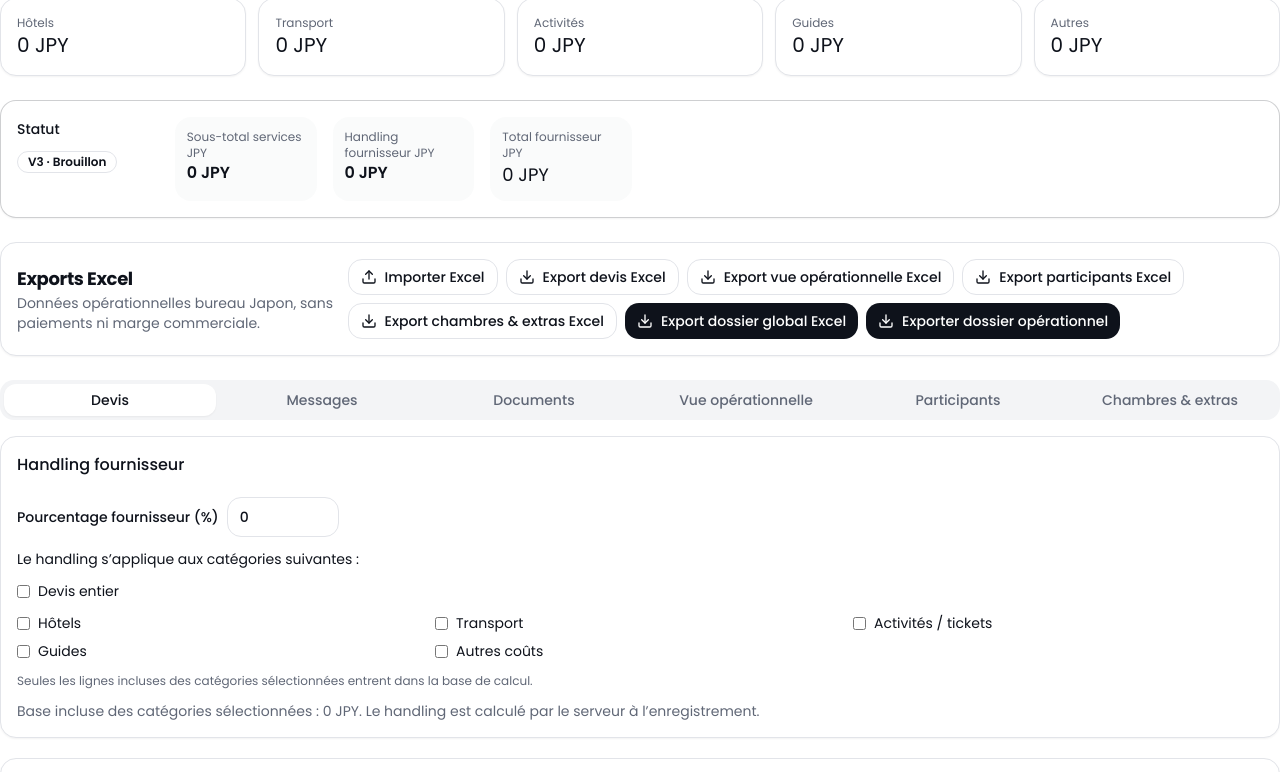
Test: existing Messages/Documents backend integration › surfaces trip_messages query errors without displaying a false empty result
(page scrolled)
Press the mouse on the tab "Messages" at (322, 400), box top-left (216, 384), bottom-right (428, 416)
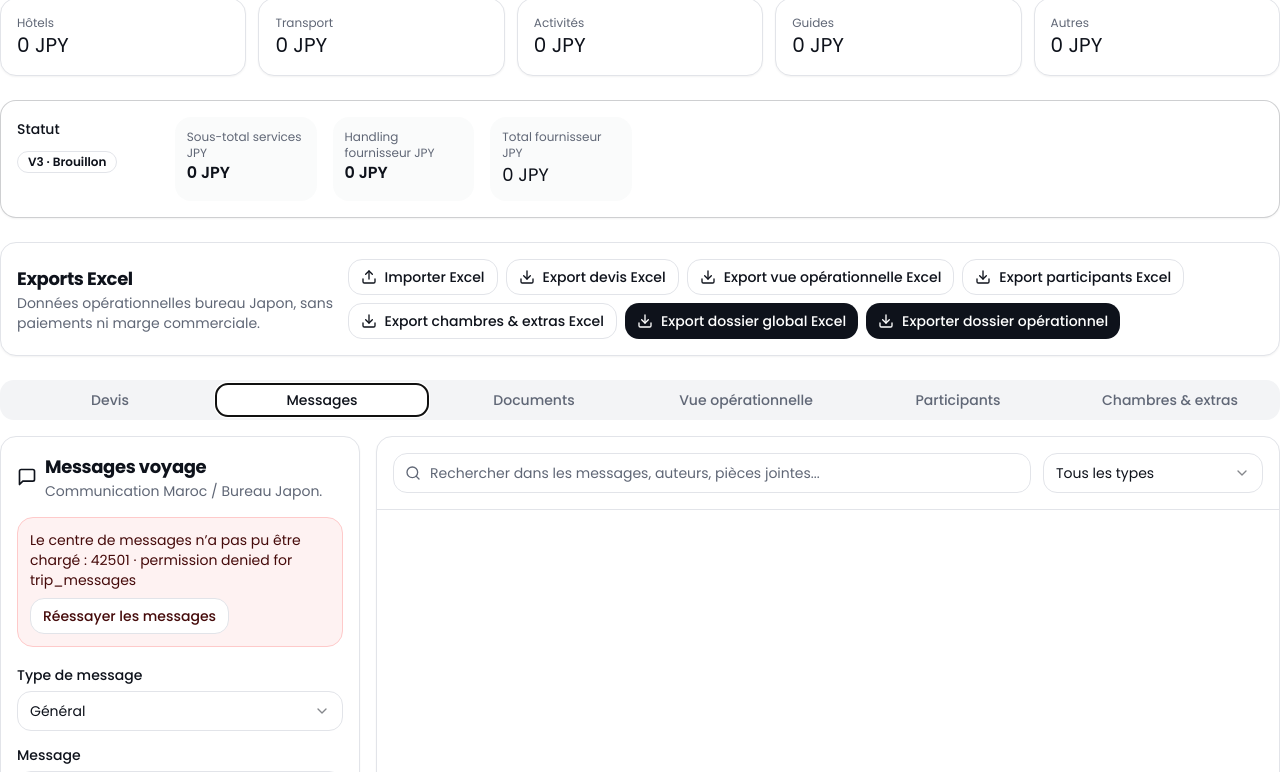
Check: the message shows "42501", box top-left (30, 550), bottom-right (292, 590)
Check: the message shows "trip_messages", box top-left (30, 550), bottom-right (292, 590)
